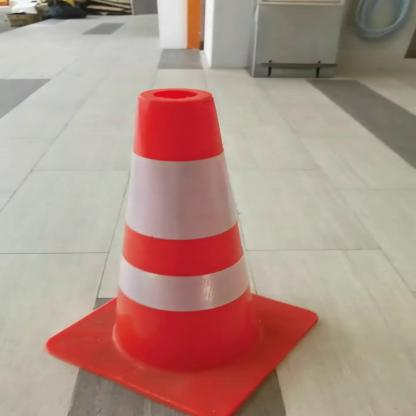cone: (34, 80, 325, 415)
